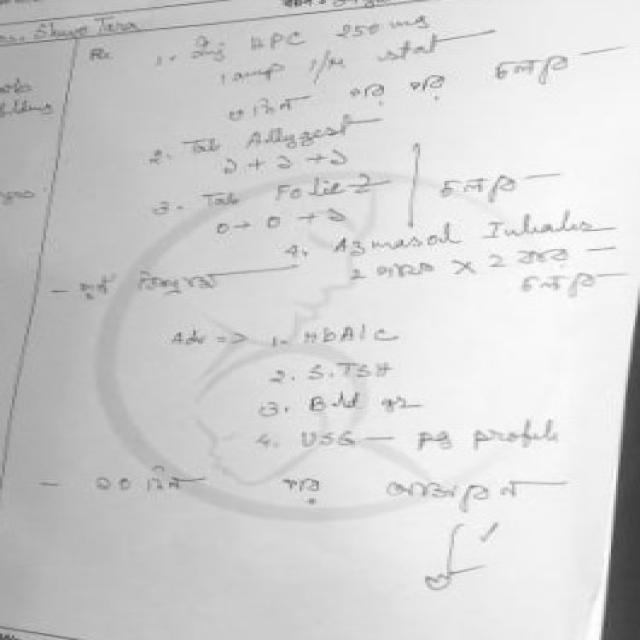medicine: (262, 170, 394, 206), (234, 124, 378, 154), (322, 229, 469, 258), (234, 25, 318, 53)
